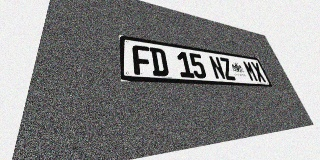1: (175, 51, 195, 78)
5: (189, 53, 208, 79)
D: (149, 47, 169, 77)
F: (132, 45, 152, 76)
M: (242, 60, 259, 82)
N: (208, 56, 226, 80)
X: (250, 62, 267, 82)
Z: (219, 57, 237, 80)
